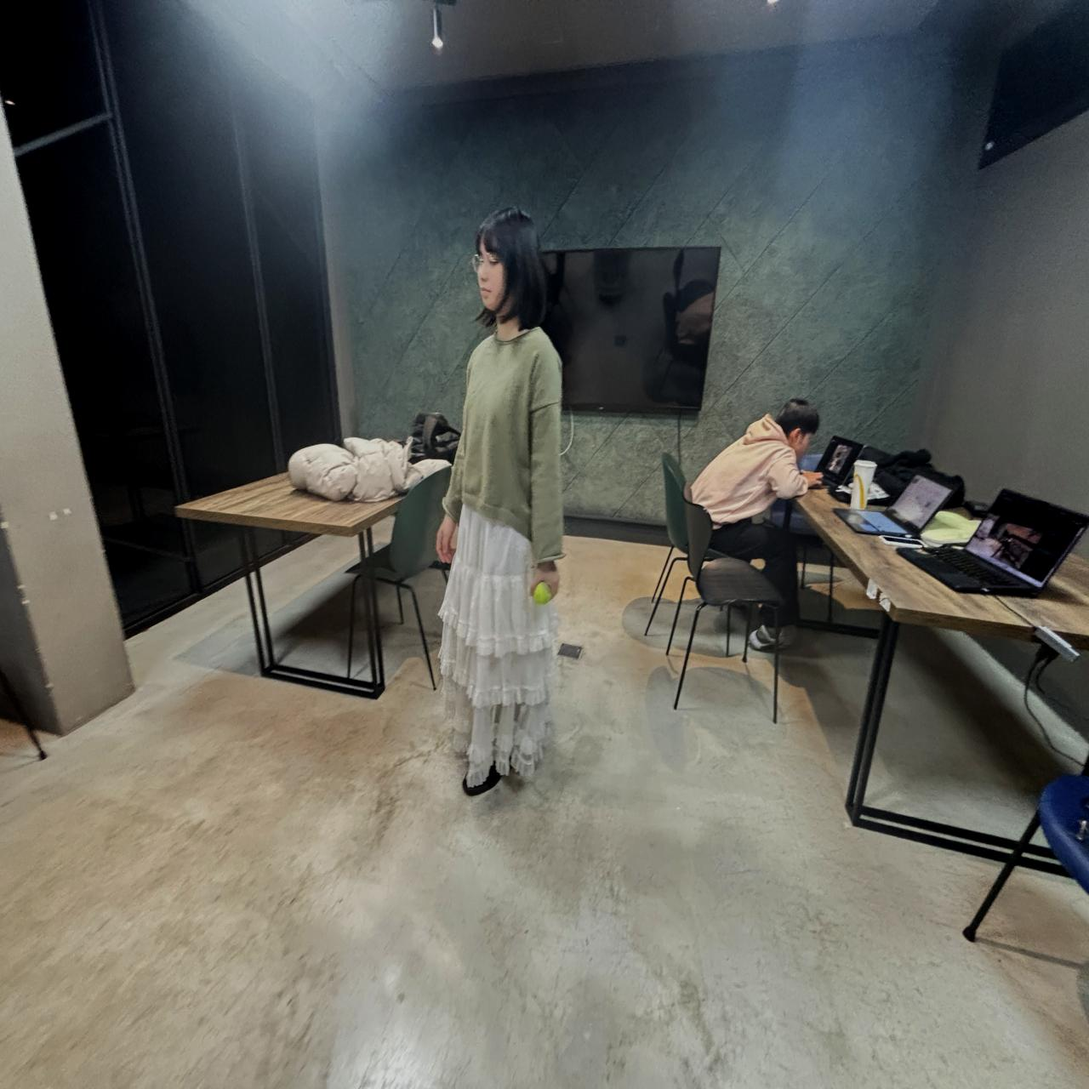person: (437, 208, 562, 795), (687, 398, 824, 653)
tennisball: (533, 582, 551, 605)
